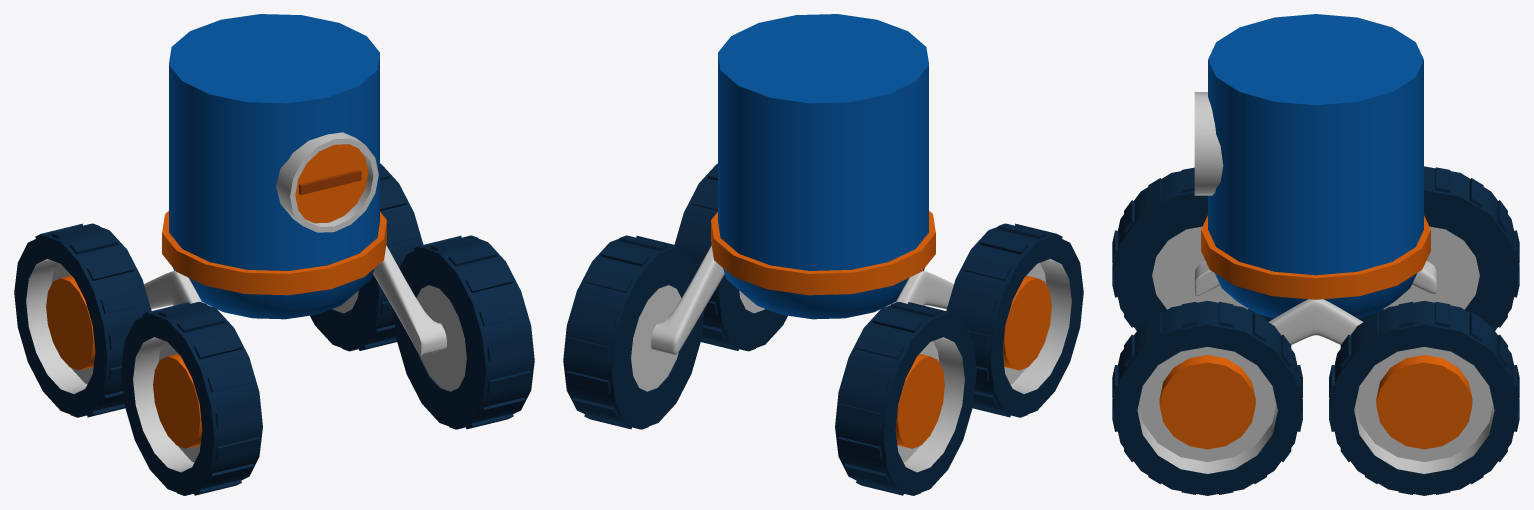
File: kotasta.fbx
The picture shows the model from 3 angles, left to right: view 1: azimuth 30°, elevation 25°; view 2: azimuth 150°, elevation 25°; view 3: azimuth 270°, elevation 25°; orthographic projection.
Visible parts, largest first — view 1: Cylinder.003, Cylinder, Cylinder.002, Cube, Cube.001; view 2: Cylinder.003, Cylinder, Cube; view 3: Cylinder.003, Cylinder, Cube, Cylinder.002.
Boxes of the visible parts, left/top/right/bottom form: Cylinder.003: left=14, top=163, right=534, bottom=495; Cylinder: left=162, top=14, right=386, bottom=319; Cylinder.002: left=276, top=132, right=378, bottom=232; Cube: left=144, top=245, right=446, bottom=356; Cube.001: left=299, top=169, right=361, bottom=194; Cylinder.003: left=563, top=163, right=1083, bottom=495; Cylinder: left=711, top=14, right=935, bottom=319; Cube: left=651, top=245, right=953, bottom=354; Cylinder.003: left=1112, top=166, right=1519, bottom=495; Cylinder: left=1201, top=14, right=1430, bottom=318; Cube: left=1194, top=261, right=1437, bottom=344; Cylinder.002: left=1194, top=92, right=1223, bottom=195.
Bounding box in the file's own units: 347 × 366 × 377.
